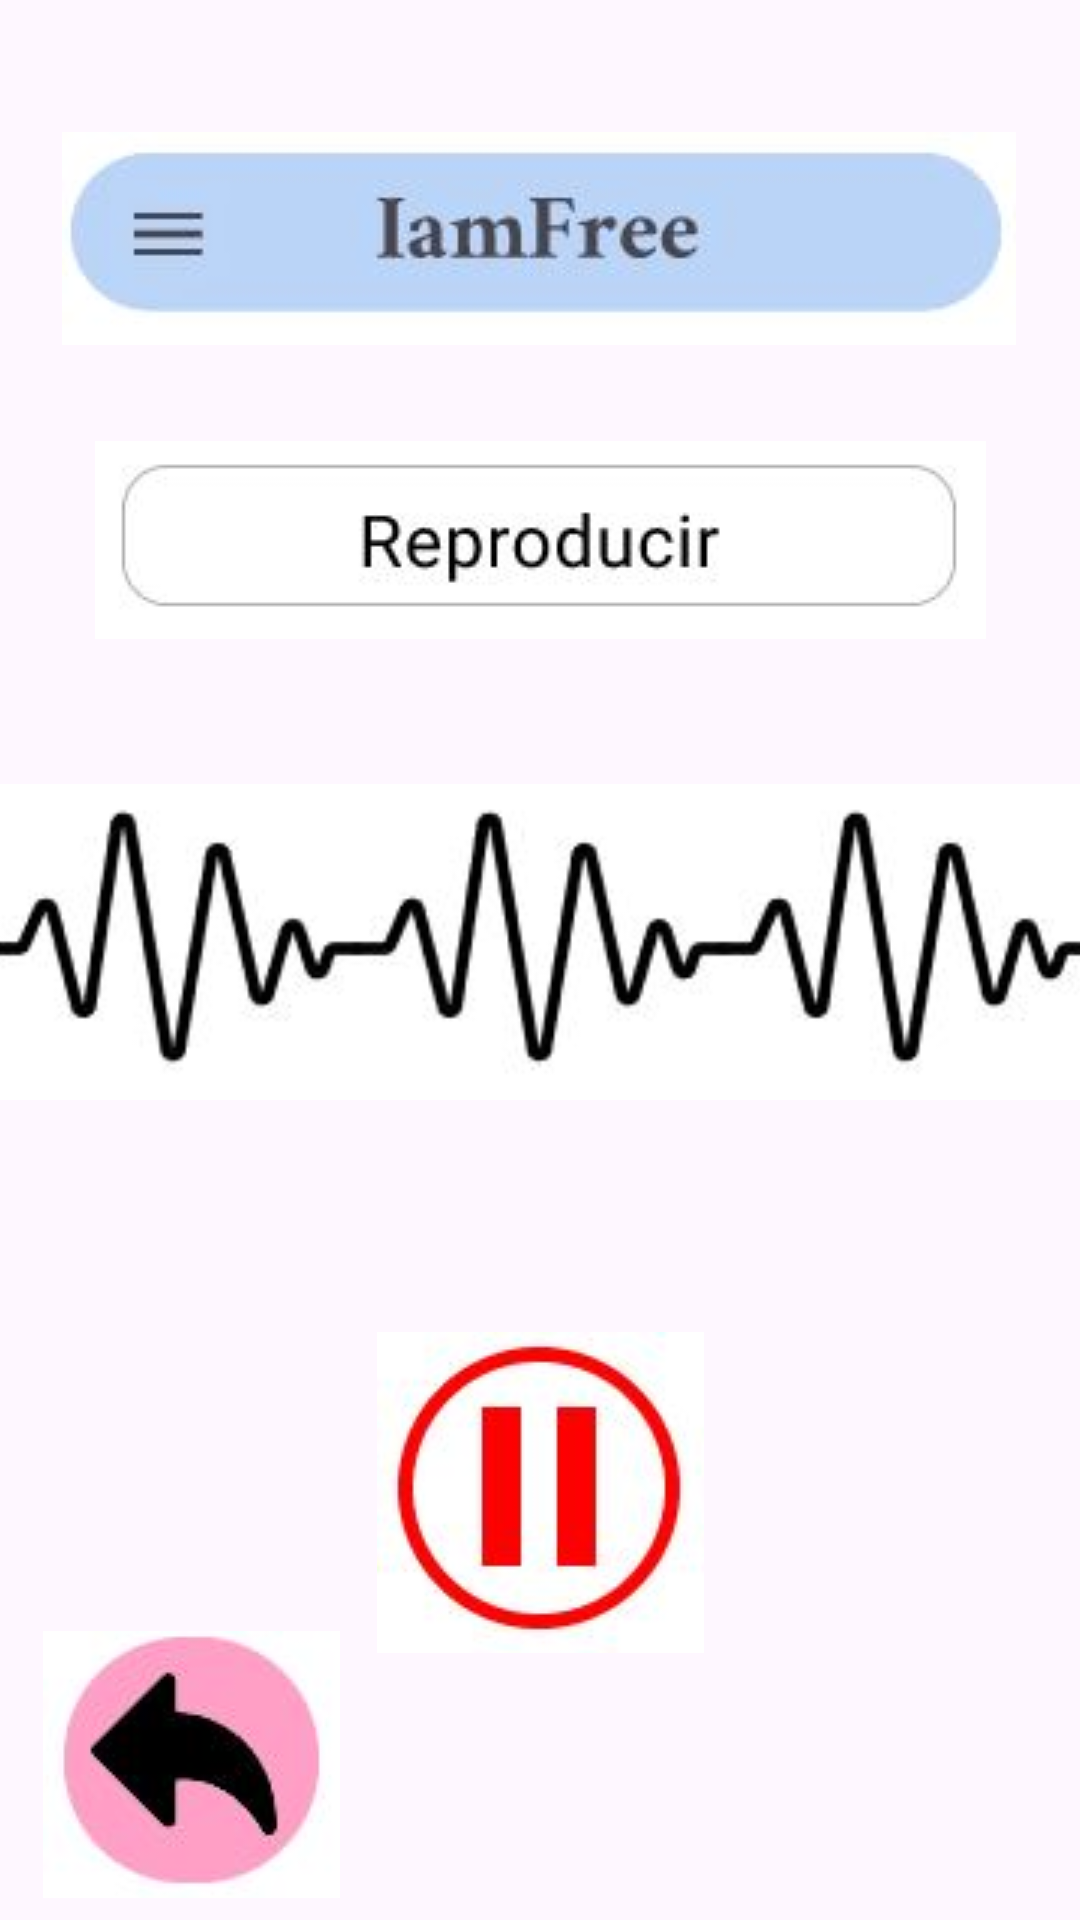

Locate icon controls on the screen. Image size 1080w x 1920h, boxes as (x1,y1,x2,y2).
atras: (63,1636,320,1884)
pausar: (377,1345,683,1631)
